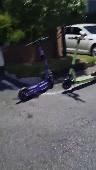beam: (17, 36, 58, 101)
gcooter: (62, 34, 96, 90)
